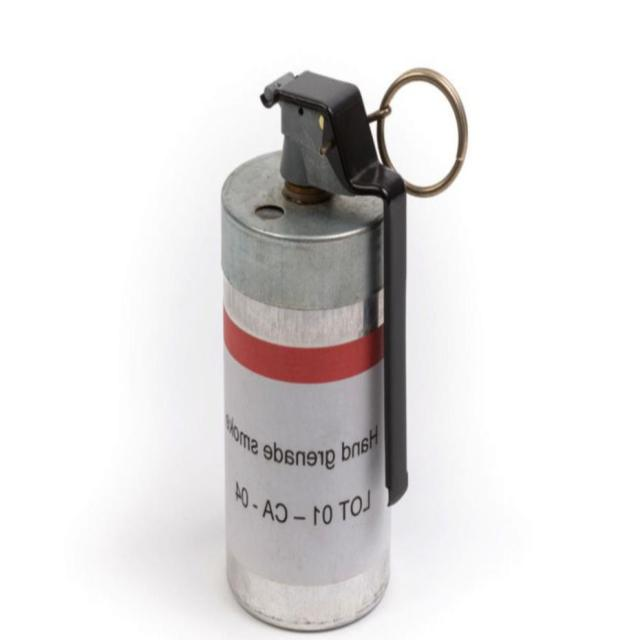grenade: (221, 67, 469, 635)
